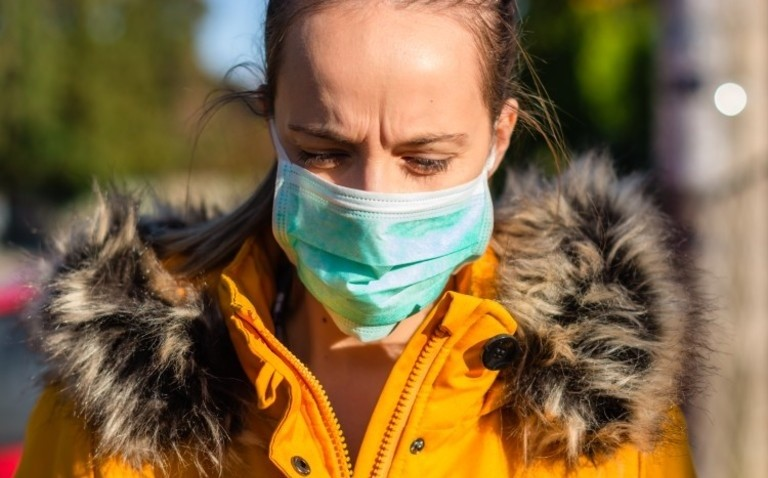face_with_mask: (255, 3, 517, 354)
